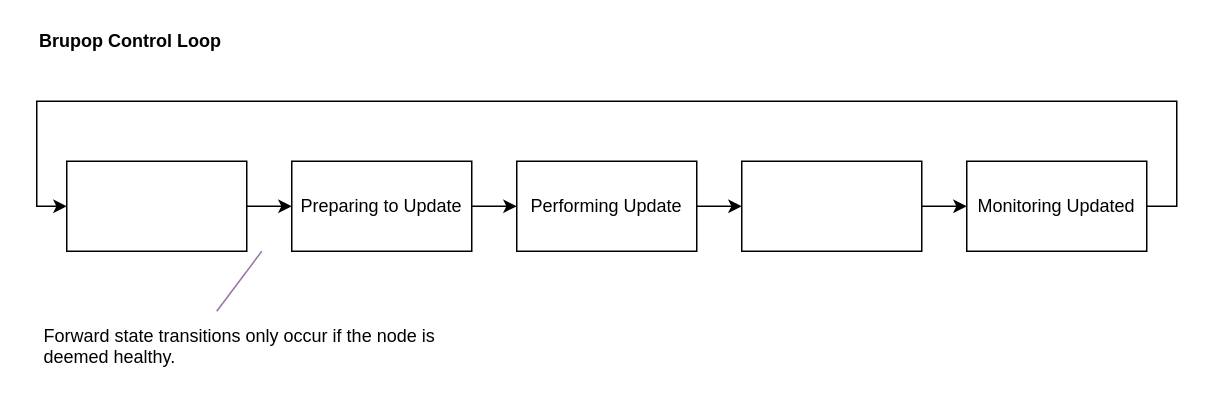
This 1215x396 diagram has some shape labels left out. Each missing label, with the centre of its shape:
"Rebooting to Update" belongs at (x=831, y=205).
"Waiting for Update" belongs at (x=156, y=205).
